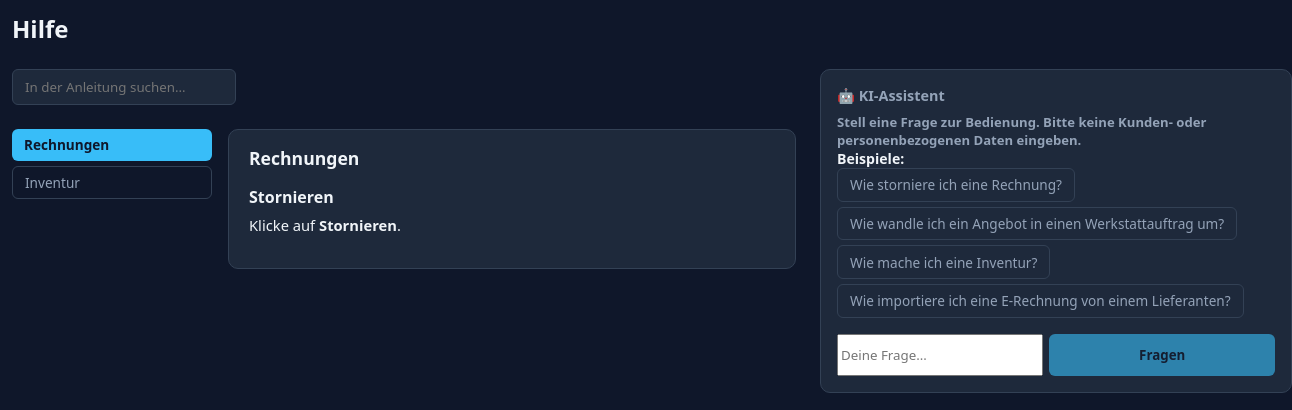
Scenario: Hilfe-Seite › stellt eine Frage und zeigt Antwort mit Quelle
This screenshot has width=1292, height=410.
Check: the heading "Rechnungen" is shown, box [249, 146, 359, 170]
Type "Wie storniere ich?" into the field named "Frage an den Assistenten" at {"x": 940, "y": 355}, box [837, 334, 1043, 376]
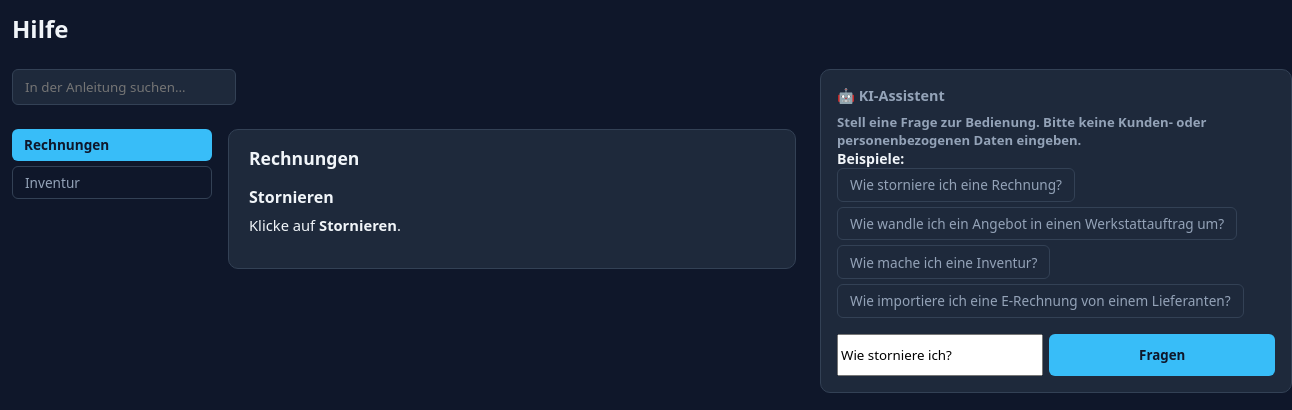
Click the button "Fragen" at {"x": 1162, "y": 355}, box [1049, 334, 1275, 376]
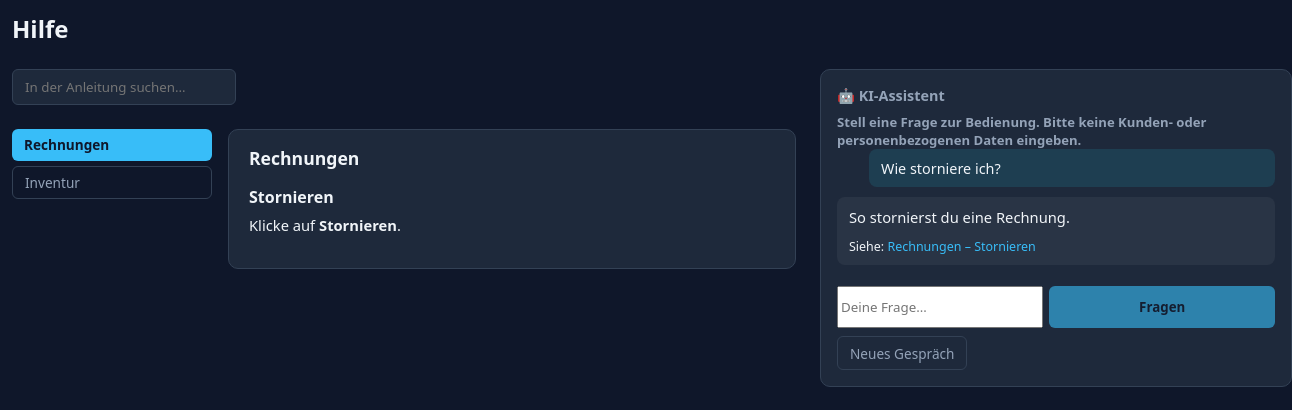
Check: the text "So stornierst du eine Rechnung." is shown, box [849, 207, 1070, 227]
Check: the link "Rechnungen – Stornieren" is shown, box [887, 238, 1036, 255]
